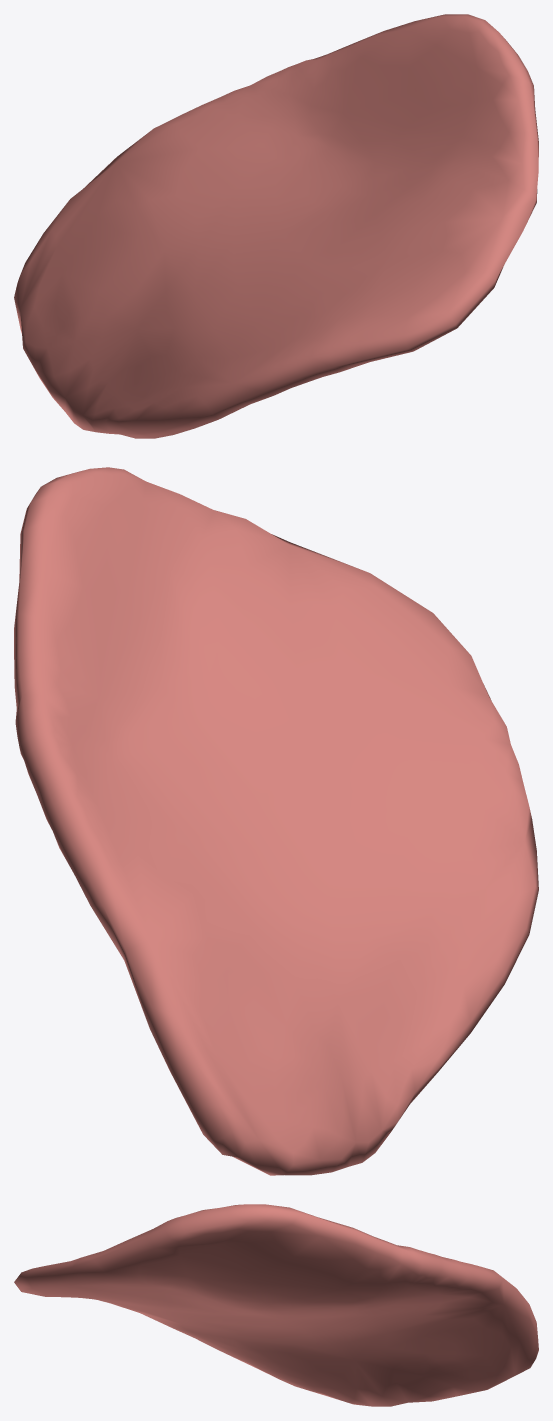
3 renders of one model, top to bottom at view 1: azimuth 30°, elevation 25°; view 2: azimuth 150°, elevation 25°; view 3: azimuth 270°, elevation 25°, orthographic. The views are drawn at different scales.
Parts seen in each view (by area): view 1: ZA_39c4827d0cc58a6b; view 2: ZA_39c4827d0cc58a6b; view 3: ZA_39c4827d0cc58a6b.
Part boxes in pixels (x1,y1,x2,y2): ZA_39c4827d0cc58a6b: (14,14,538,438); ZA_39c4827d0cc58a6b: (14,467,538,1175); ZA_39c4827d0cc58a6b: (14,1204,538,1406).
Size of the model in its own units: 0.00598 by 0.0063 by 0.00893.
